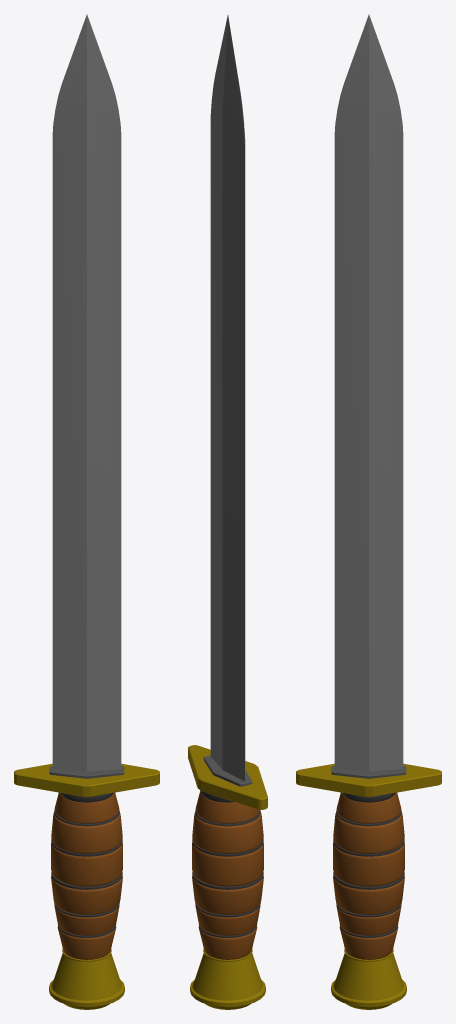
File: NewSword.fbx
The picture shows the model from 3 angles, left to right: view 1: azimuth 90°, elevation 25°; view 2: azimuth 210°, elevation 25°; view 3: azimuth 270°, elevation 25°; orthographic projection.
Visible parts, largest first — view 1: Sw.Blade, Sw.Grips, Sw.Handle, Sw.Guard, Sw.Collar; view 2: Sw.Blade, Sw.Grips, Sw.Handle, Sw.Guard, Sw.Collar; view 3: Sw.Blade, Sw.Grips, Sw.Handle, Sw.Guard, Sw.Collar.
Part boxes in pixels (x1,y1,x2,y2): Sw.Blade: (52, 14, 121, 771); Sw.Grips: (51, 792, 122, 959); Sw.Handle: (49, 793, 124, 1009); Sw.Guard: (14, 763, 159, 796); Sw.Collar: (49, 766, 124, 778); Sw.Blade: (210, 15, 245, 781); Sw.Grips: (192, 791, 263, 959); Sw.Handle: (190, 790, 265, 1009); Sw.Guard: (188, 745, 267, 809); Sw.Collar: (203, 755, 252, 786); Sw.Blade: (334, 14, 403, 771); Sw.Grips: (333, 792, 404, 959); Sw.Handle: (331, 793, 406, 1009); Sw.Guard: (296, 763, 441, 796); Sw.Collar: (331, 766, 406, 778).
Bounding box in the file's own units: 13.78 × 197 × 26.45.
